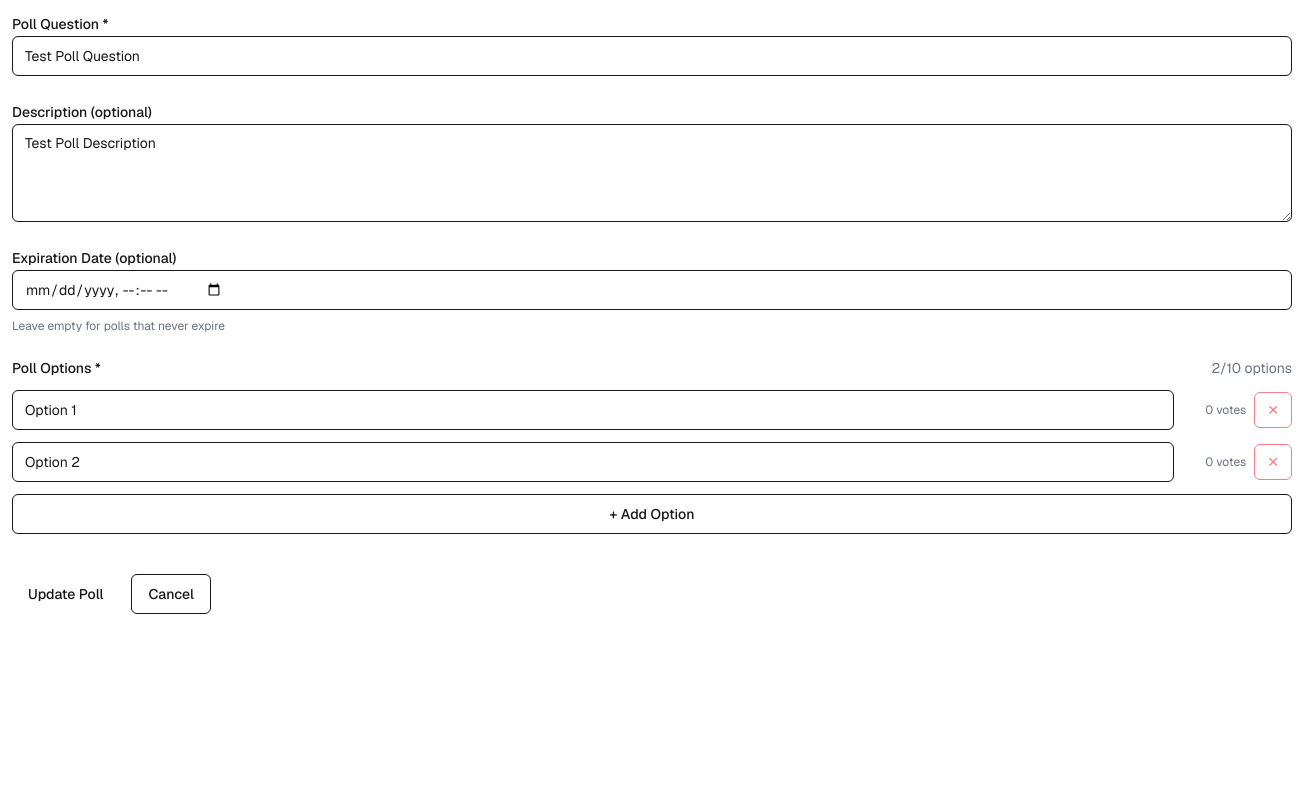
Test: EditPollForm Component › handles API errors
Note: Submit form
Step 1. Click the button "Update Poll" → (66, 594), box [12, 574, 119, 614]
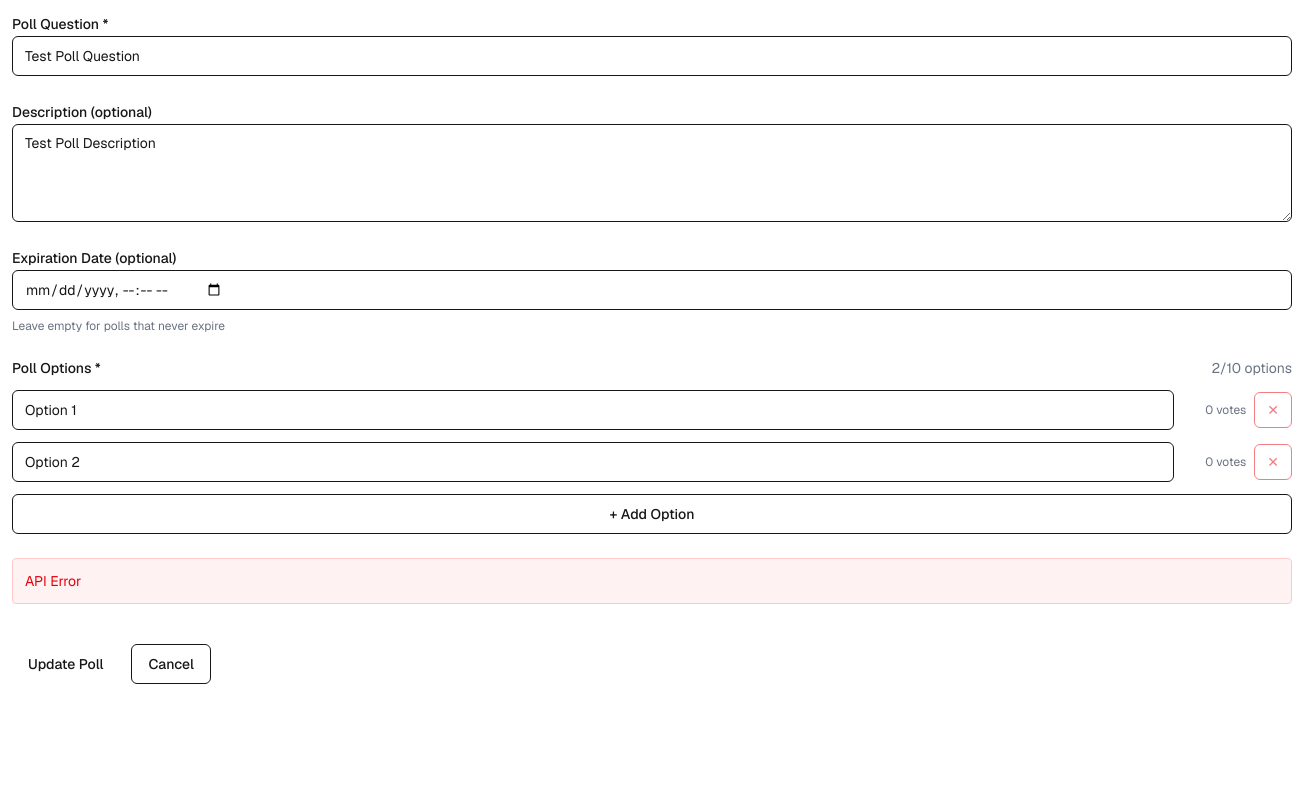
Expected: the text "API Error" is shown, [12, 558, 1292, 604]
